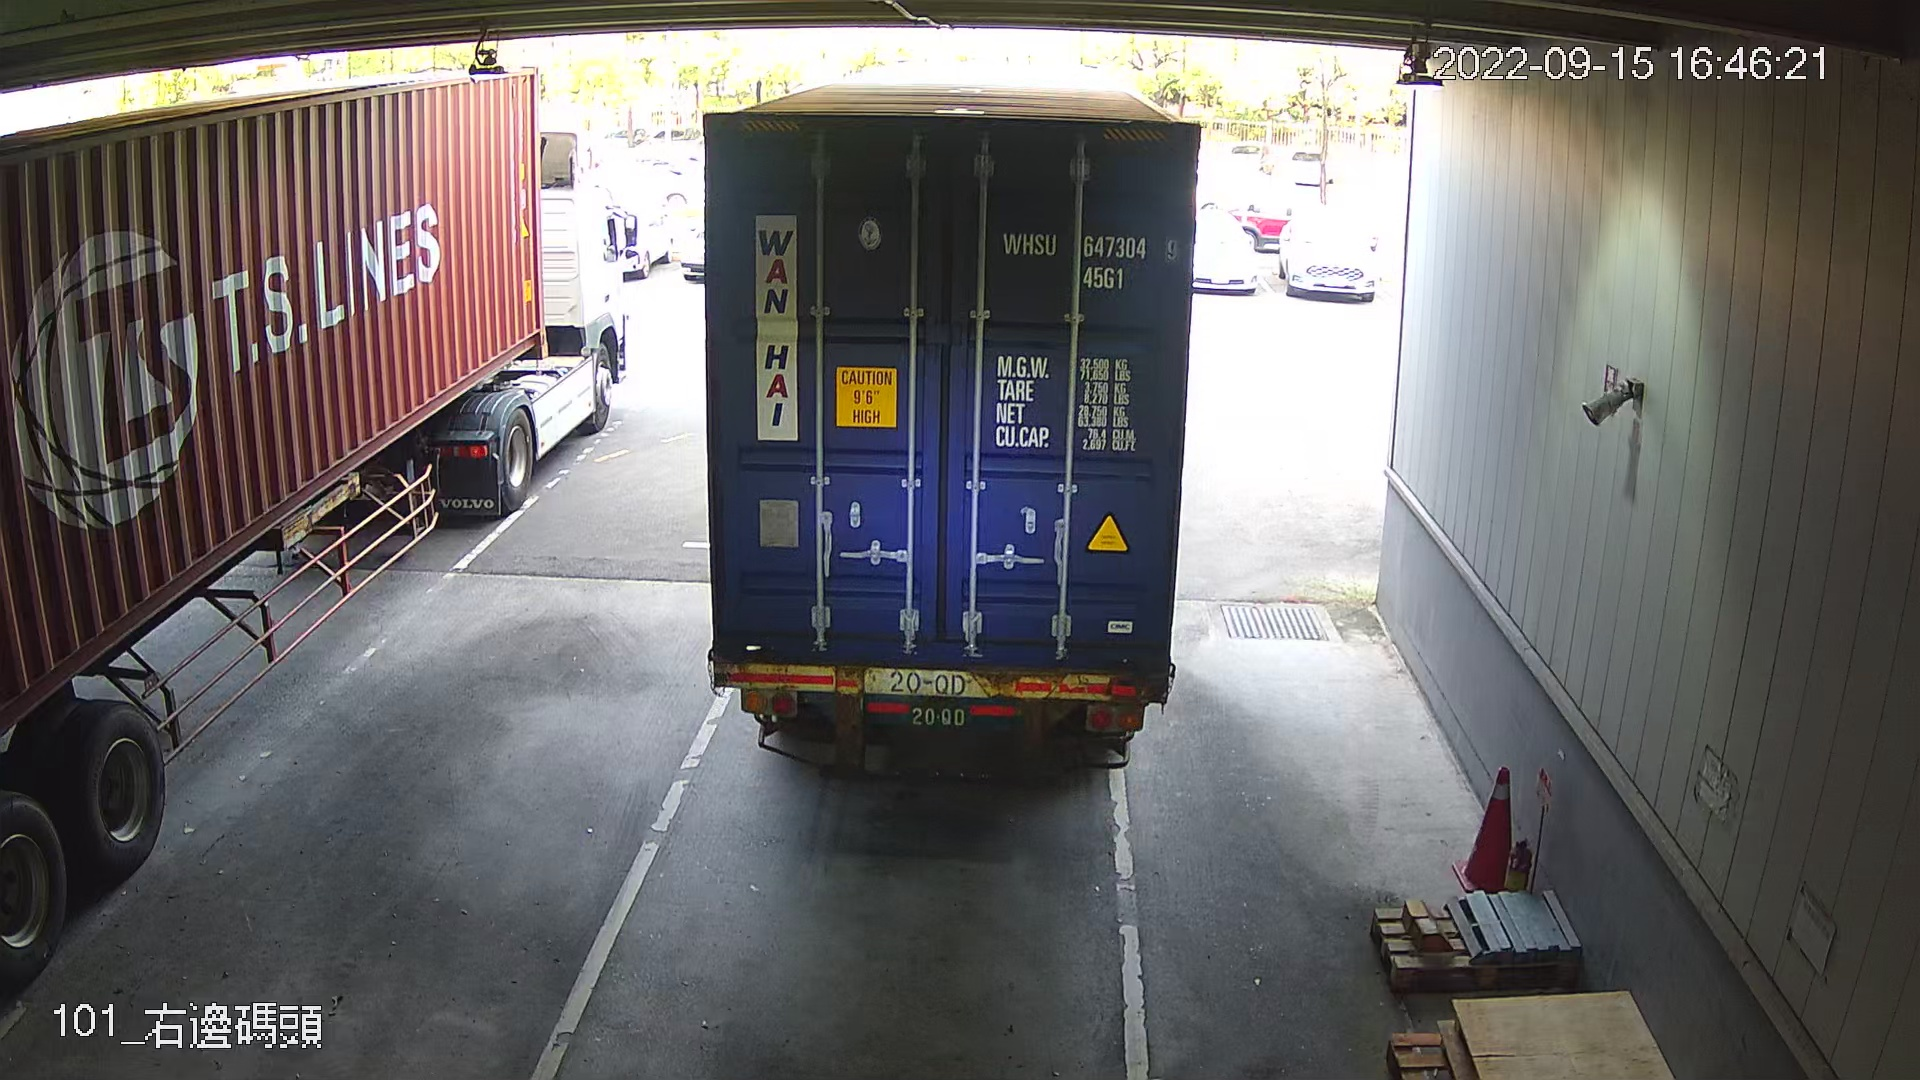container: (992, 223, 1189, 297)
